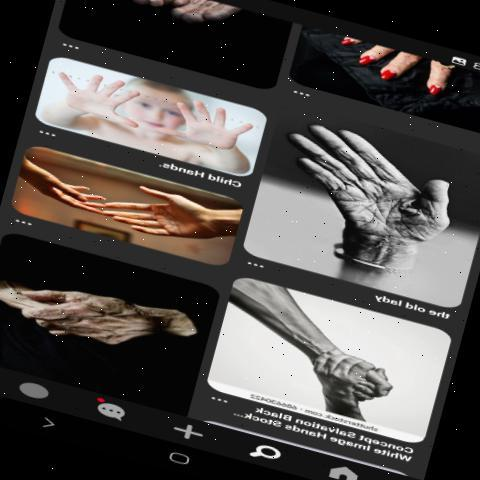Hands: (273, 112, 469, 266), (108, 179, 230, 236), (2, 165, 106, 220)
